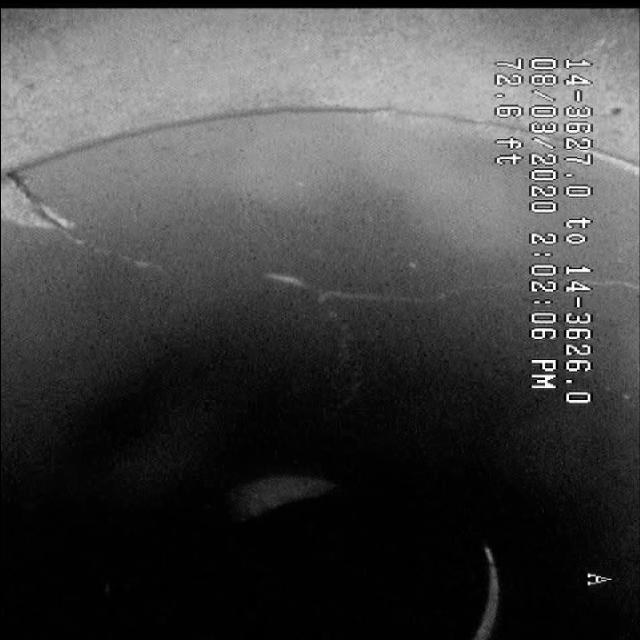Crack: (6, 164, 382, 328)
